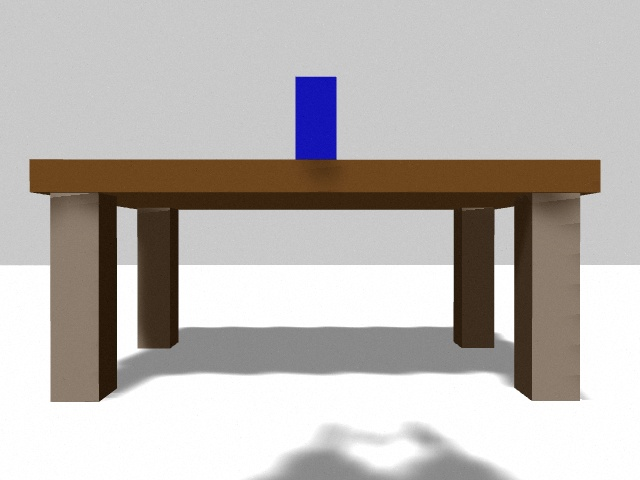blue_cube: (295, 77, 337, 159)
